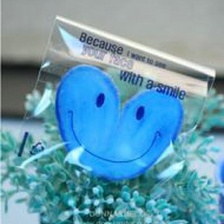snack: (3, 7, 221, 209)
